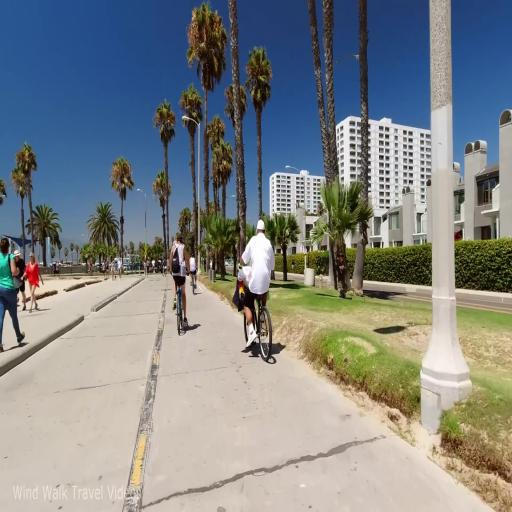Street_Light: (180, 106, 205, 279), (132, 180, 150, 280)
